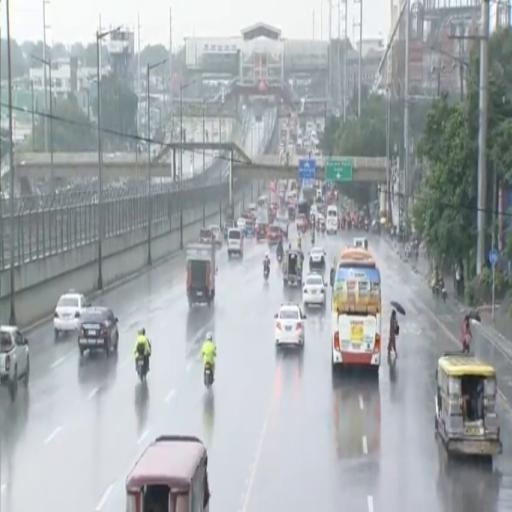bus: (331, 248, 381, 371)
car: (0, 326, 29, 402), (78, 307, 119, 356), (54, 292, 88, 339), (275, 303, 306, 346), (303, 274, 326, 308), (227, 229, 243, 259), (309, 247, 326, 270), (267, 226, 282, 245), (209, 226, 222, 246), (200, 228, 214, 244), (256, 223, 268, 241), (297, 215, 308, 232), (245, 219, 255, 237), (237, 217, 245, 231)
jeepney: (435, 352, 502, 456), (126, 436, 209, 511), (282, 250, 303, 286), (353, 237, 368, 249)
motorcycle: (136, 355, 146, 381), (204, 363, 213, 388), (439, 280, 447, 301), (463, 335, 471, 354), (432, 281, 440, 298), (264, 265, 269, 280), (277, 250, 282, 263), (320, 223, 325, 233), (365, 221, 369, 231)
truck: (186, 244, 216, 308)
